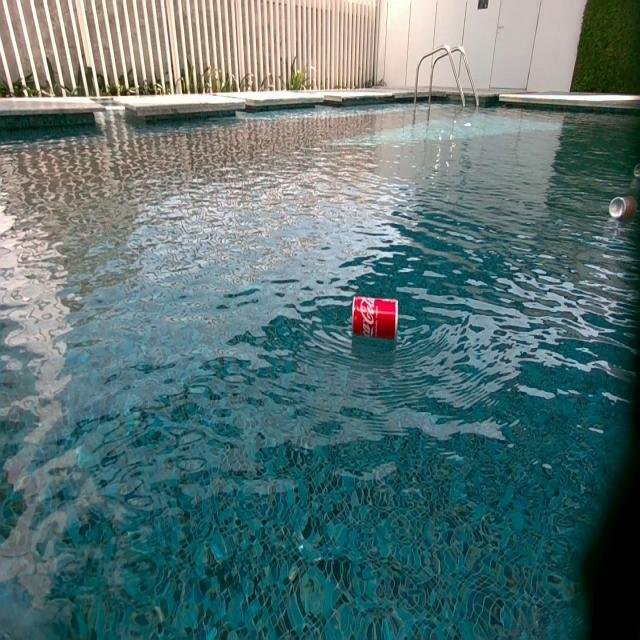Cans: (353, 294, 398, 340), (611, 197, 638, 222), (634, 163, 640, 179)
